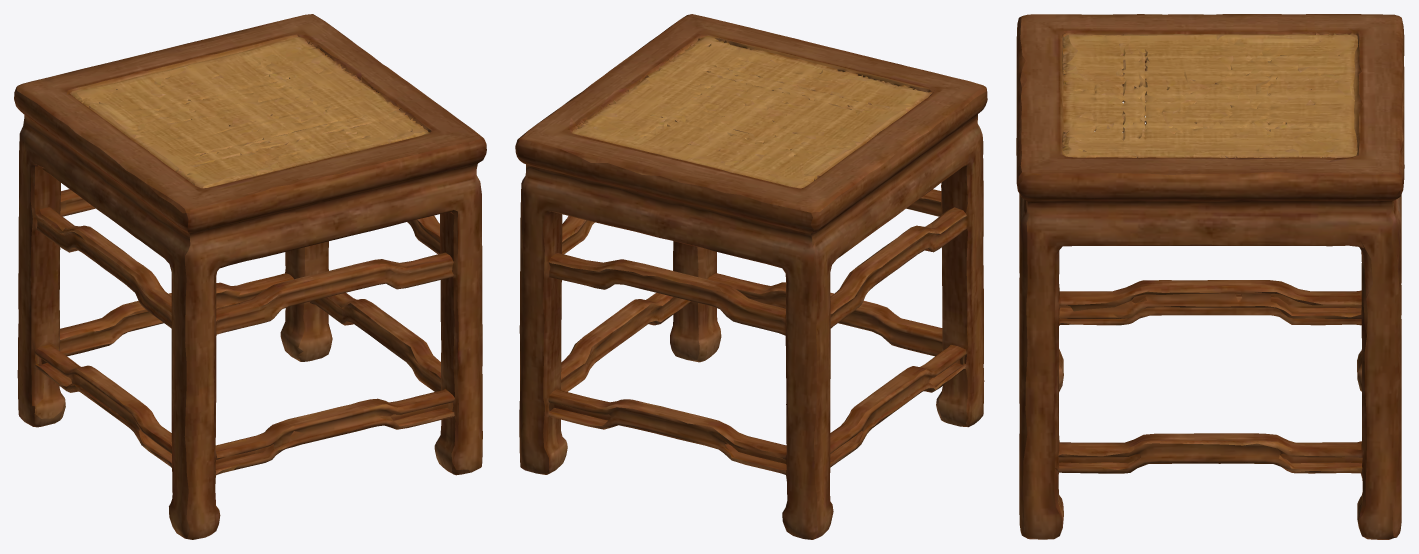
File: stool.glb
The picture shows the model from 3 angles, left to right: view 1: azimuth 30°, elevation 25°; view 2: azimuth 150°, elevation 25°; view 3: azimuth 270°, elevation 25°; orthographic projection. The views are drawn at different scales.
Visible parts, largest first — view 1: geometry_0; view 2: geometry_0; view 3: geometry_0.
Boxes of the visible parts, x1,y1,x2,y2 form: geometry_0: (14,14,486,539); geometry_0: (515,14,987,539); geometry_0: (1016,14,1404,539).
Size of the model in its own units: 0.4767 by 0.5 by 0.4764.
Materials: 1 (1 with a texture image).
